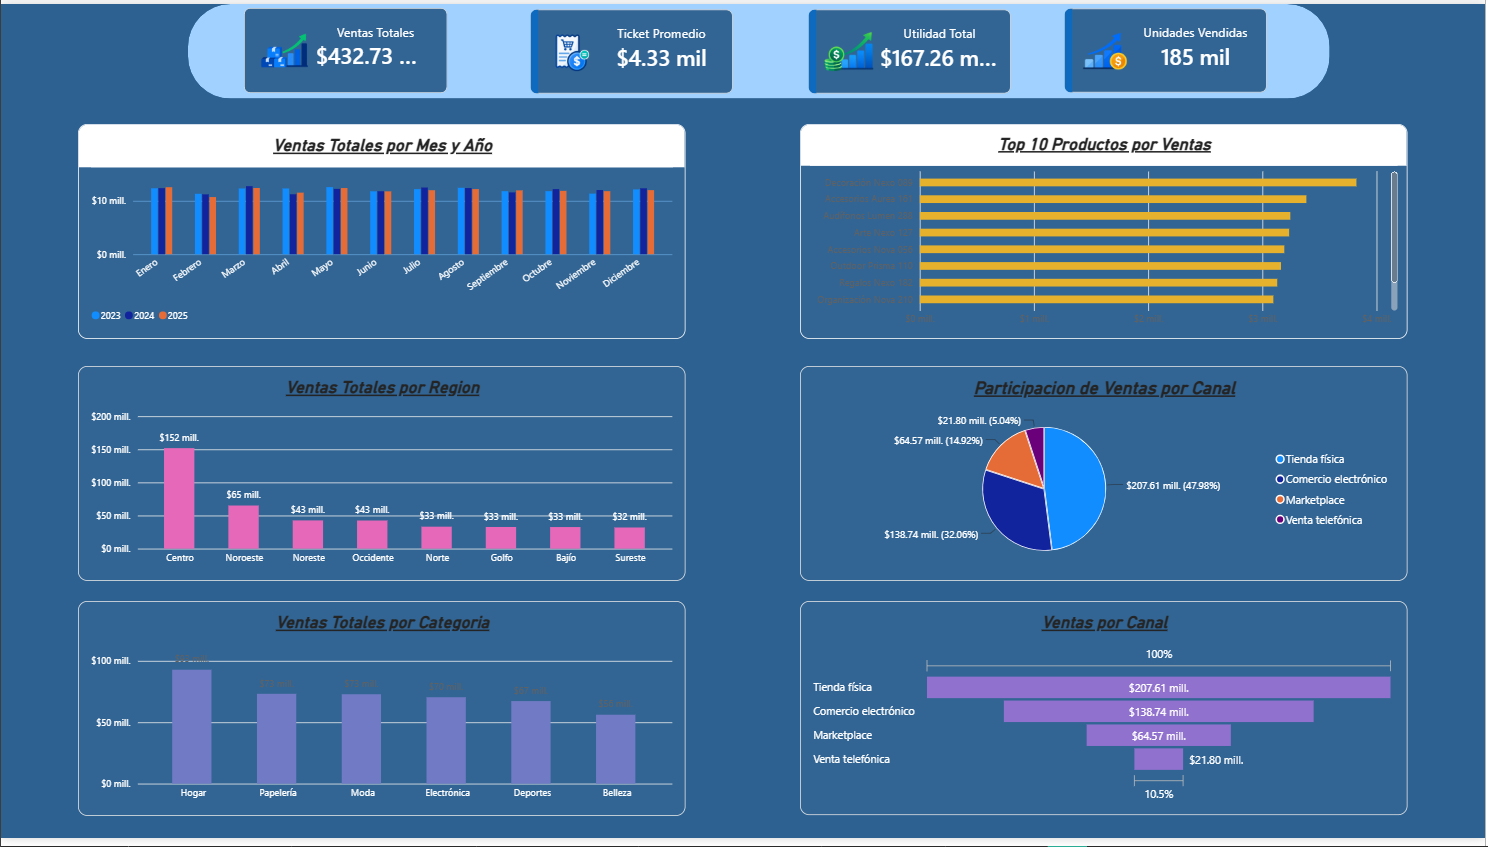

The page's visual inventory and layout, read from the dashboard file:
{"tool":"powerbi","page":{"name":"📊 Resumen Ejecutivo","canvas":[1920,1080],"ordinal":0},"visuals":[{"type":"shape","box":[241.9,0,1477,122.5],"z":0},{"type":"cardVisual","fields":{"Data":["Fact_Ventas.Ticket Promedio"]},"box":[684.9,6,263,110.4],"z":2000},{"type":"cardVisual","fields":{"Data":["Fact_Ventas.Utilidad Total"]},"box":[1044.7,6,263,110],"z":3000},{"type":"cardVisual","fields":{"Data":["Fact_Ventas.Unidades Vendidas"]},"box":[1375.7,4.5,263,110],"z":4000},{"type":"clusteredColumnChart","title":"Ventas Totales por Mes y Año","fields":{"Category":["Dim_Fecha.Mes"],"Series":["Dim_Fecha.Año"],"Y":["Fact_Ventas.ventas Totales"]},"box":[99.8,155.7,786.1,278.2],"z":5000},{"type":"clusteredColumnChart","title":"Ventas Totales por Region ","fields":{"Category":["Dim_Tiendas.Region"],"Y":["Fact_Ventas.ventas Totales"]},"box":[99.8,468.7,786,278],"z":6000},{"type":"clusteredColumnChart","title":"Ventas Totales por Categoria","fields":{"Category":["Dim_Productos.Categoria"],"Y":["Fact_Ventas.ventas Totales"]},"box":[99.8,772.5,786,278],"z":7000},{"type":"clusteredBarChart","title":"Top 10 Productos por Ventas ","fields":{"Category":["Dim_Productos.Producto"],"Y":["Fact_Ventas.ventas Totales"]},"box":[1034.1,155.7,786,278],"z":8000},{"type":"pieChart","title":"Participacion de Ventas por Canal ","fields":{"Category":["Fact_Ventas.CanalVenta"],"Y":["Fact_Ventas.ventas Totales"]},"box":[1034.1,468.7,786,278],"z":9000},{"type":"funnel","title":"Ventas por Canal","fields":{"Category":["Fact_Ventas.CanalVenta"],"Y":["Fact_Ventas.ventas Totales"]},"box":[1034.1,772.5,786,277],"z":10000},{"type":"cardVisual","fields":{"Data":["Fact_Ventas.ventas Totales"]},"box":[313.8,4.9,263.4,110.6],"z":11000}]}

Visuals, with their boxes in screenshot pixels (x1, y1, x2, y2), scaled from the page's 1920x1080 canvas onto the 1488x847 screenshot:
shape: [left=187, top=0, right=1332, bottom=96]
cardVisual - Fact_Ventas.Ticket Promedio: [left=531, top=5, right=735, bottom=91]
cardVisual - Fact_Ventas.Utilidad Total: [left=810, top=5, right=1013, bottom=91]
cardVisual - Fact_Ventas.Unidades Vendidas: [left=1066, top=4, right=1270, bottom=90]
"Ventas Totales por Mes y Año" clusteredColumnChart: [left=77, top=122, right=687, bottom=340]
"Ventas Totales por Region " clusteredColumnChart: [left=77, top=368, right=686, bottom=586]
"Ventas Totales por Categoria" clusteredColumnChart: [left=77, top=606, right=686, bottom=824]
"Top 10 Productos por Ventas " clusteredBarChart: [left=801, top=122, right=1411, bottom=340]
"Participacion de Ventas por Canal " pieChart: [left=801, top=368, right=1411, bottom=586]
"Ventas por Canal" funnel: [left=801, top=606, right=1411, bottom=823]
cardVisual - Fact_Ventas.ventas Totales: [left=243, top=4, right=447, bottom=91]
